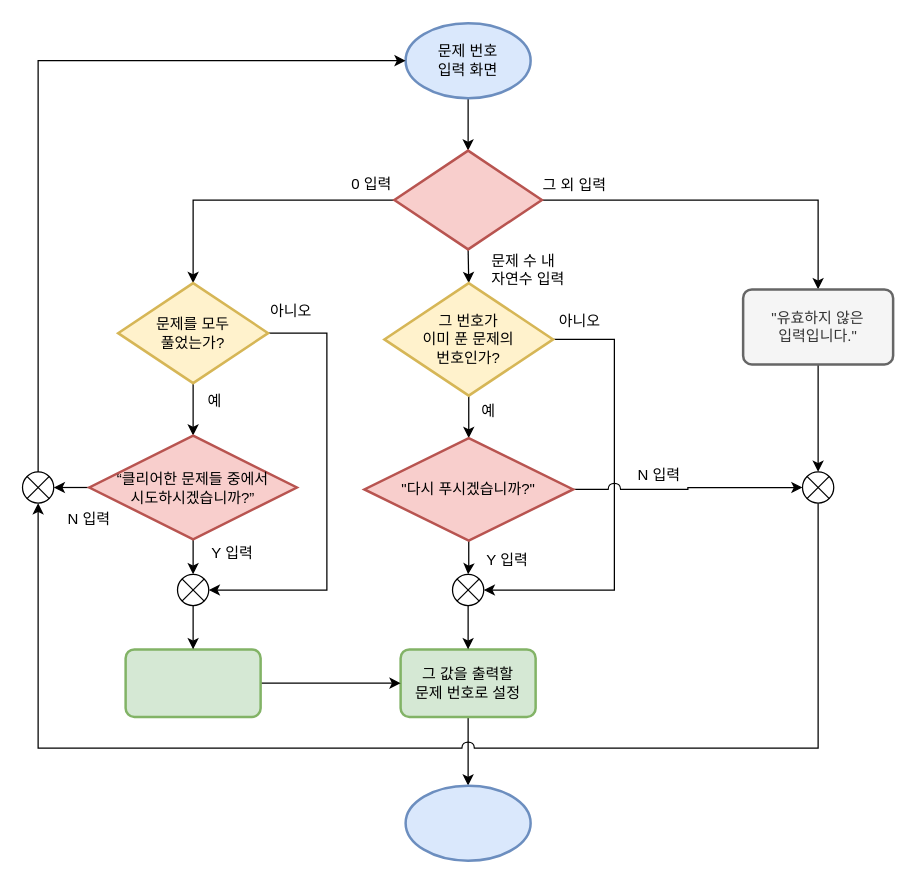
The diagram is 915 pixels wide and 883 high, and some of its shapes have lost their labels. Each missing label, with the centre of its shape:
"문제 번호를 입력해주세요.": point 467,199
다음 화면으로 넘어감: point 467,822
문제 개수 내의 자연수 난수를 생성함.: point 192,683
